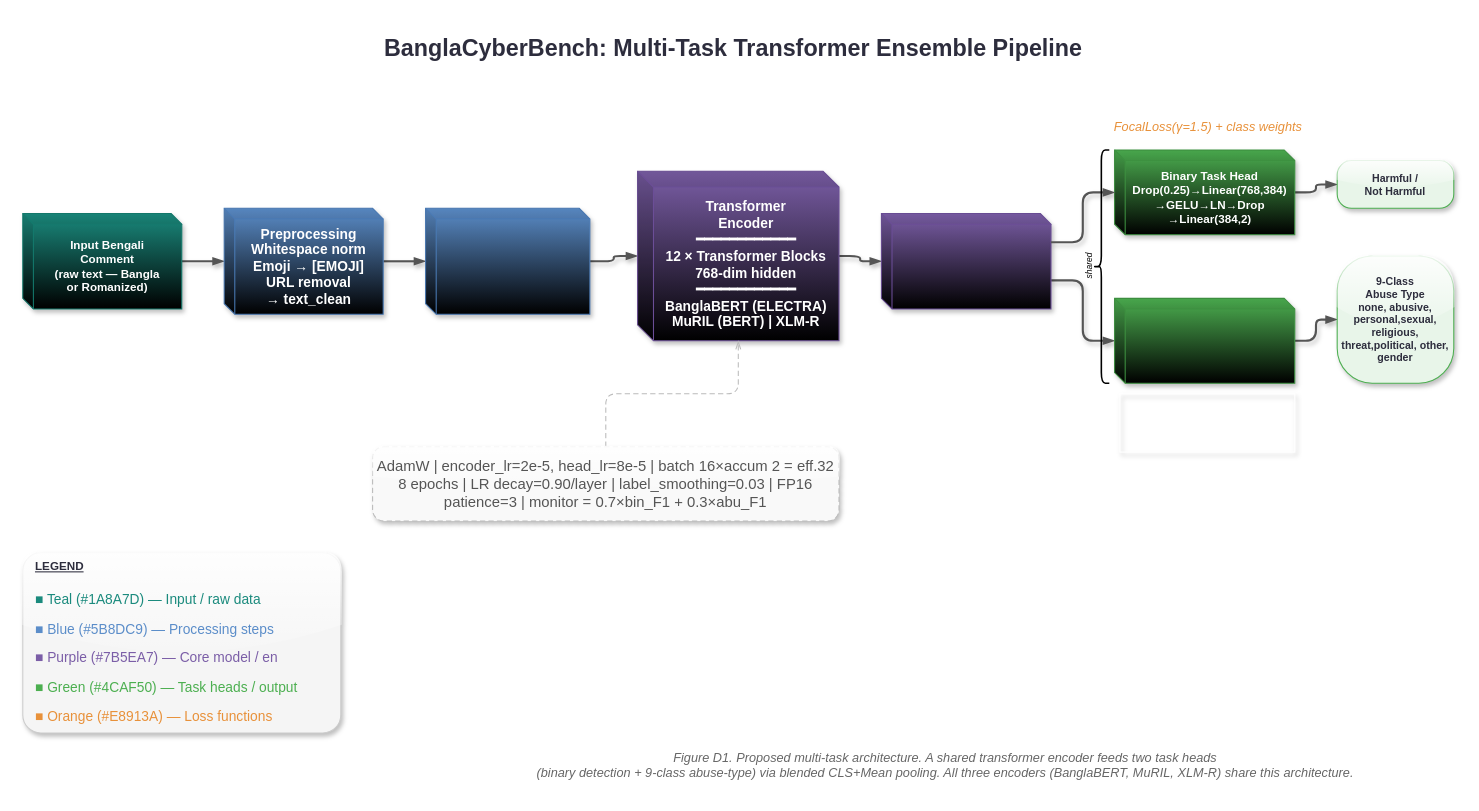
The diagram is 1479 pixels wide and 811 high, and some of its shapes have lost their labels. Here are the shapes that lost their labels. From the top down, the centre of each, then its label:
At point (508, 262): "Tokenizer WordPiece / SentencePiece max_len = 128".
At point (966, 262): "Pooling 0.5 × [CLS] + 0.5 × Mean-pool 768-dim".
At point (1205, 342): "Abuse-Type Head Same arch → Linear(384,9) FocalLoss(γ=2.5) + weights".
At point (1208, 424): "FocalLoss(γ=2.5) + class weights".
